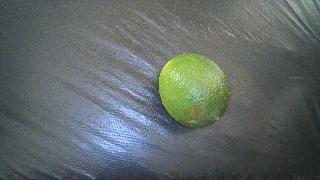DESECHO: (159, 54, 231, 128)
